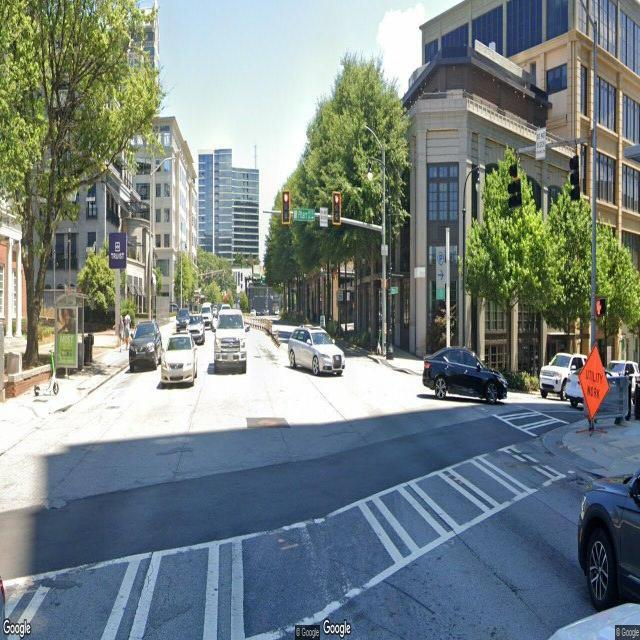shelter: (54, 290, 90, 379)
trash_can: (84, 334, 93, 366)
